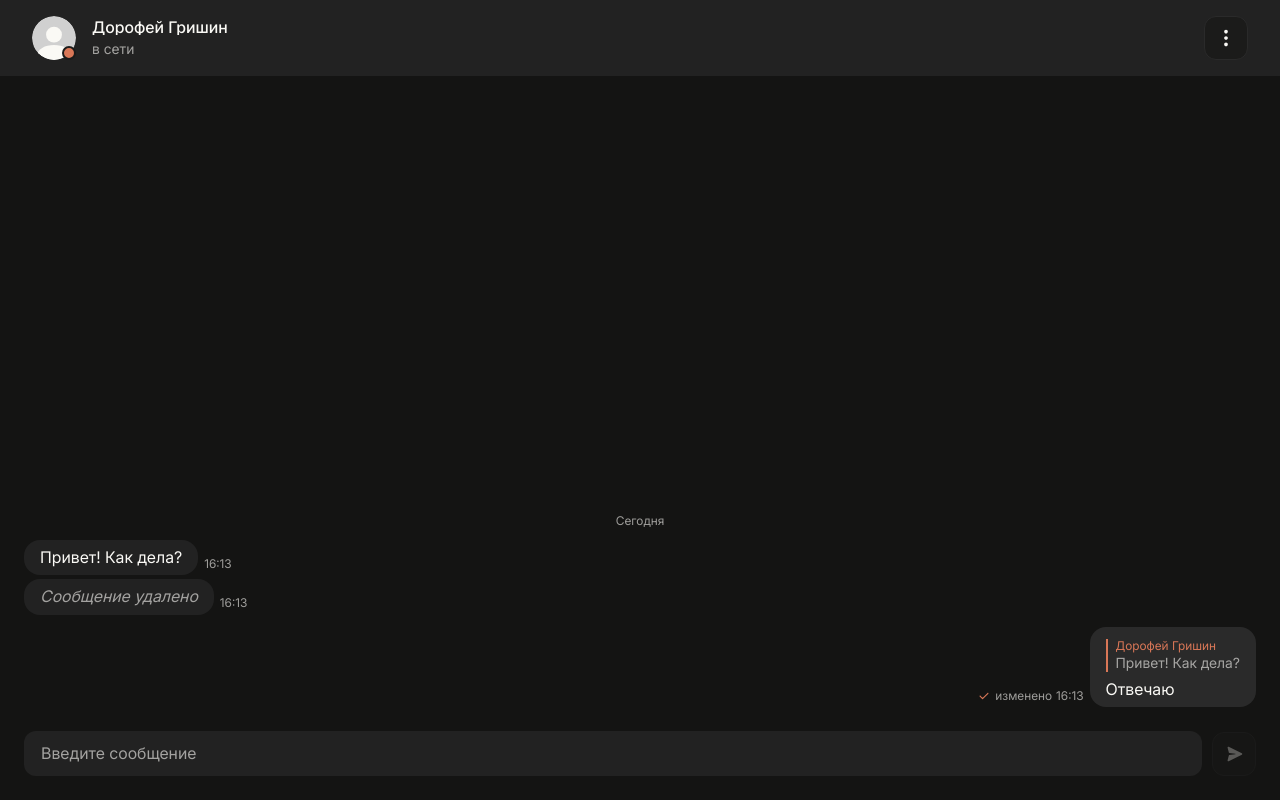
Test case: ChatWindow › puts the reply into the composer
Right-click the 1st text "Привет! Как дела?" at [111, 557], box x1=40 y1=547 x2=182 y2=567
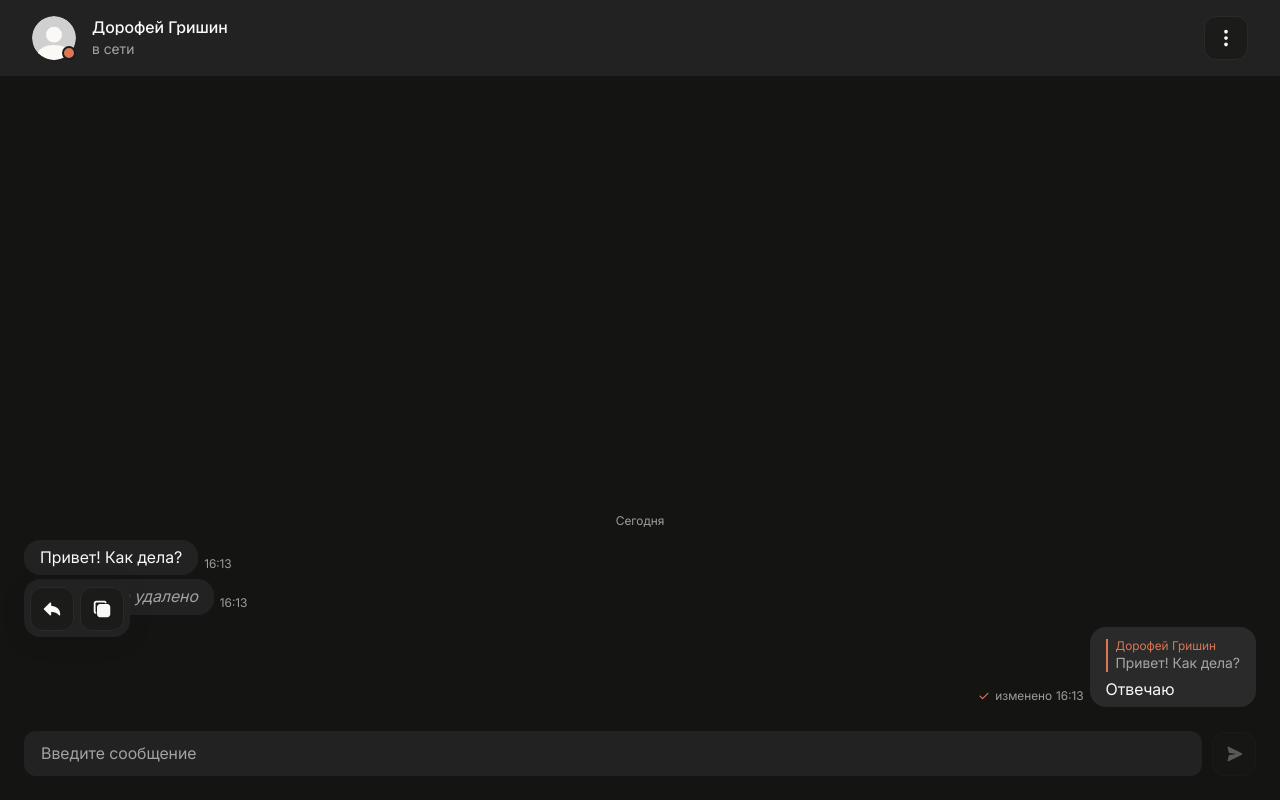
Click the menu item named "Ответить" at [52, 609], box x1=30 y1=587 x2=74 y2=631
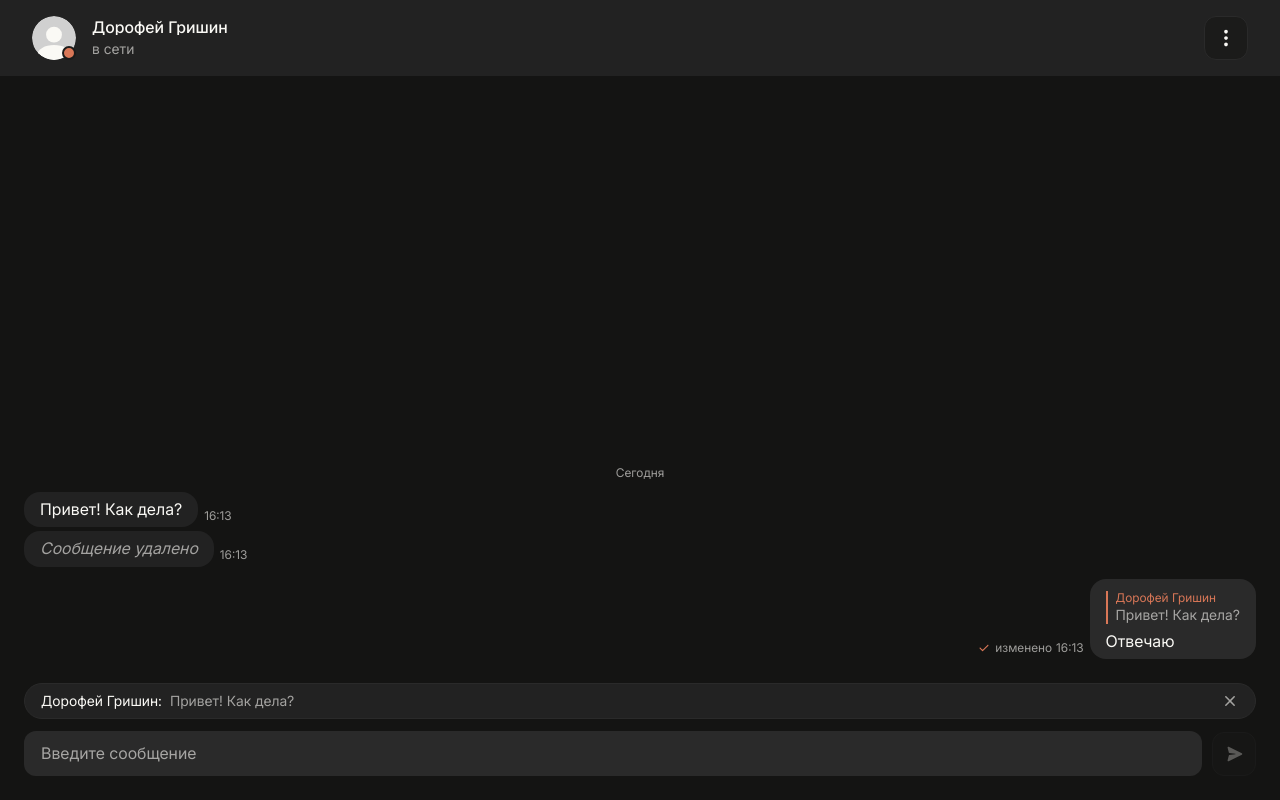
Result: the text "Дорофей Гришин:" is shown at x1=41 y1=693 x2=162 y2=709
Result: the button named "Отменить ответ" is shown at x1=1221 y1=692 x2=1239 y2=710
